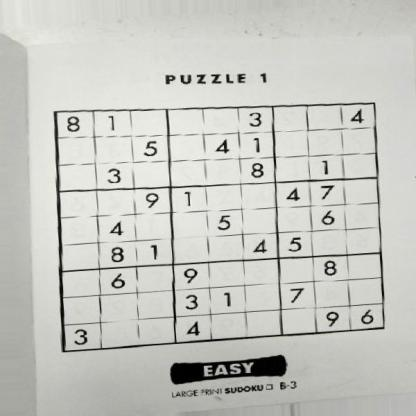sudoku: (49, 99, 388, 354)
